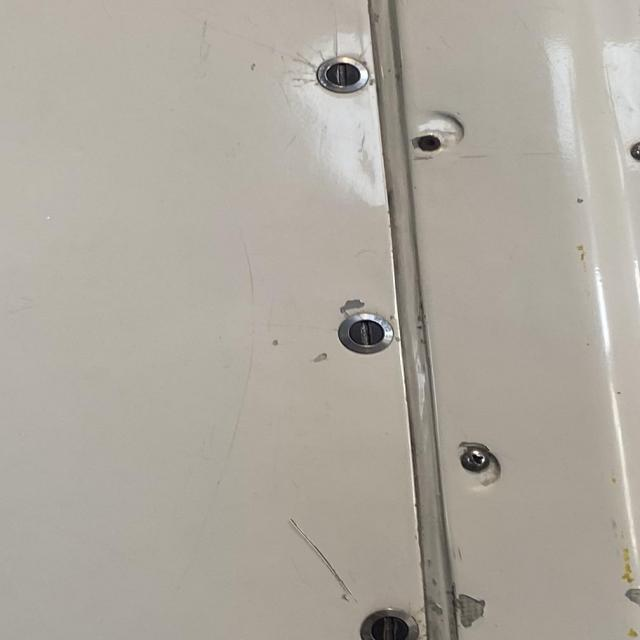Missing-head: (409, 119, 457, 155)
Paint-off: (451, 593, 486, 629), (625, 588, 640, 609)
Scratch: (287, 520, 355, 604)
